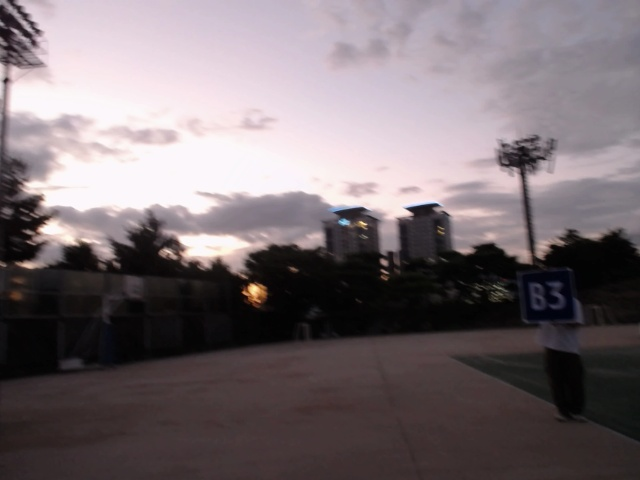delivery_b3: (516, 268, 576, 324)
